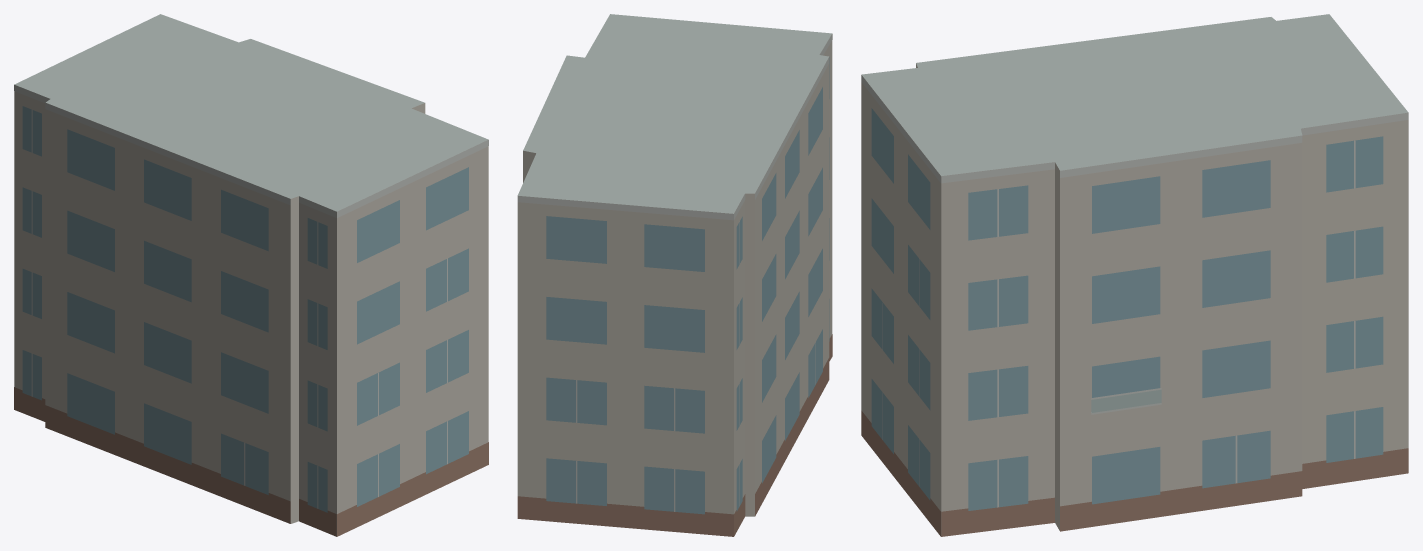
The model's file is survey-upis-32914335.glb.
3 renders of one model, left to right at view 1: azimuth 30°, elevation 25°; view 2: azimuth 150°, elevation 25°; view 3: azimuth 270°, elevation 25°, orthographic. The views are drawn at different scales.
Visible parts, largest first — view 1: survey-upis-32914335.tmp; view 2: survey-upis-32914335.tmp; view 3: survey-upis-32914335.tmp.
Boxes of the visible parts, x1,y1,x2,y2 form: survey-upis-32914335.tmp: [14, 14, 488, 536]; survey-upis-32914335.tmp: [517, 14, 832, 536]; survey-upis-32914335.tmp: [861, 14, 1408, 536].
Bounding box in the file's own units: 11.77 × 12.2 × 16.79.
